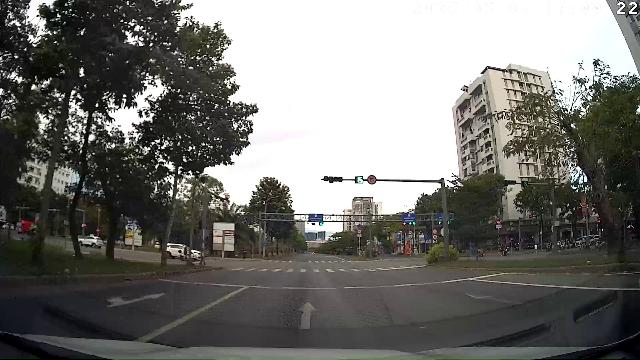123b-cam-re-phai: (368, 176, 377, 184)
